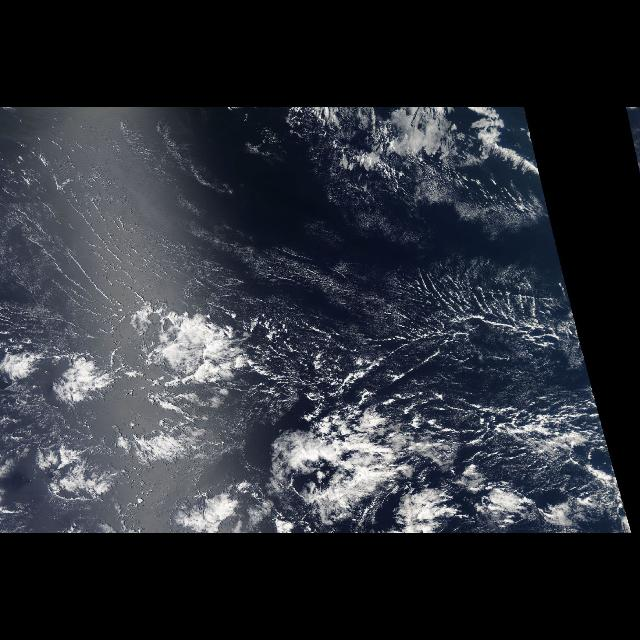Flower: (1, 284, 260, 532)
Sugar: (0, 108, 392, 342)
